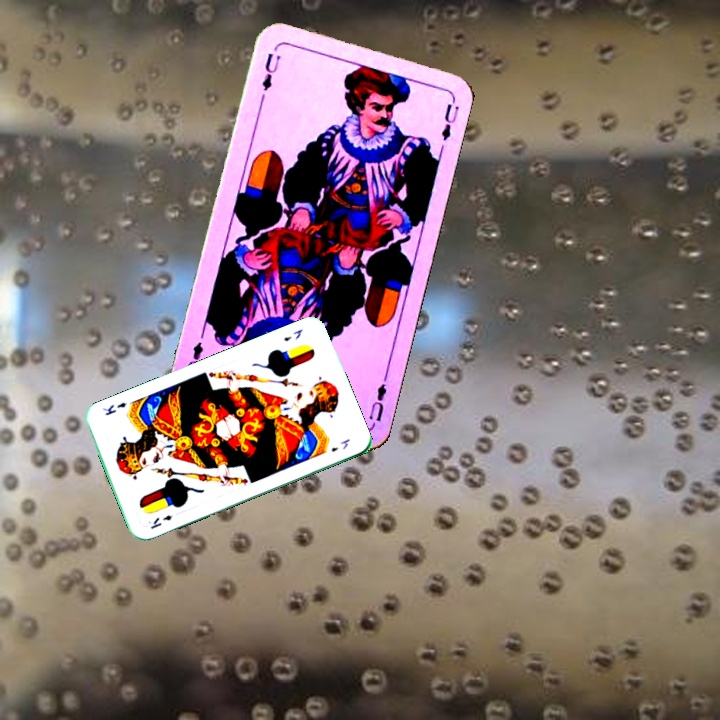EK: (146, 511, 175, 531), (280, 325, 305, 344)
EU: (364, 373, 390, 431), (258, 46, 283, 94)
